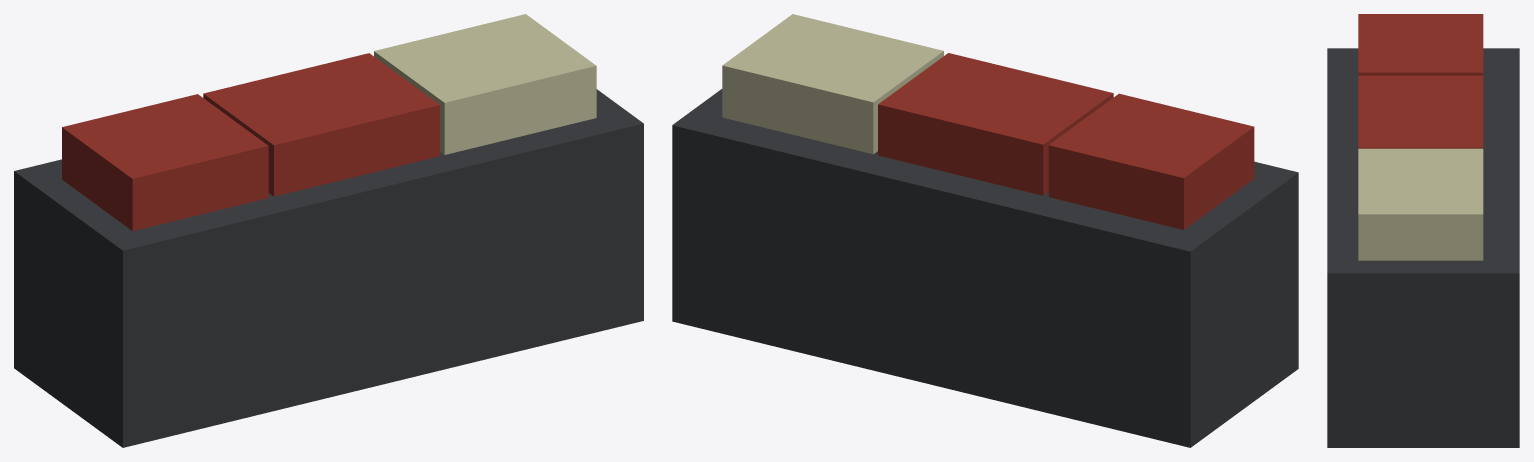
File: buton4.fbx
3 renders of one model, left to right at view 1: azimuth 30°, elevation 25°; view 2: azimuth 150°, elevation 25°; view 3: azimuth 270°, elevation 25°, orthographic. The views are drawn at different scales.
Visible parts, largest first — view 1: SM_Prop_Button_03, SM_Prop_Button_01.010, SM_Prop_Button_01.011, SM_Prop_Button_01.012; view 2: SM_Prop_Button_03, SM_Prop_Button_01.010, SM_Prop_Button_01.011, SM_Prop_Button_01.012; view 3: SM_Prop_Button_03, SM_Prop_Button_01.012, SM_Prop_Button_01.010, SM_Prop_Button_01.011.
Boxes of the visible parts, <box> form: SM_Prop_Button_03: <box>14,89,643,447</box>; SM_Prop_Button_01.010: <box>203,53,439,196</box>; SM_Prop_Button_01.011: <box>62,94,268,230</box>; SM_Prop_Button_01.012: <box>374,14,596,154</box>; SM_Prop_Button_03: <box>672,89,1298,447</box>; SM_Prop_Button_01.010: <box>878,53,1113,195</box>; SM_Prop_Button_01.011: <box>1048,93,1254,229</box>; SM_Prop_Button_01.012: <box>722,14,943,154</box>; SM_Prop_Button_03: <box>1327,48,1519,447</box>; SM_Prop_Button_01.012: <box>1358,148,1483,260</box>; SM_Prop_Button_01.010: <box>1358,75,1483,148</box>; SM_Prop_Button_01.011: <box>1358,14,1483,75</box>.
Size of the model in its own units: 34.46 by 15.77 by 12.47.
